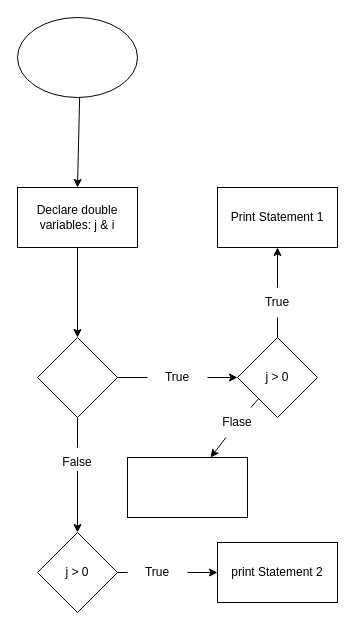
The diagram is 355 pixels wide and 630 high, and some of its shapes have lost their labels. Each missing label, with the centre of its shape:
i > 0: (x=77, y=377)
print Statement 3: (x=187, y=487)
Start: (x=77, y=57)
